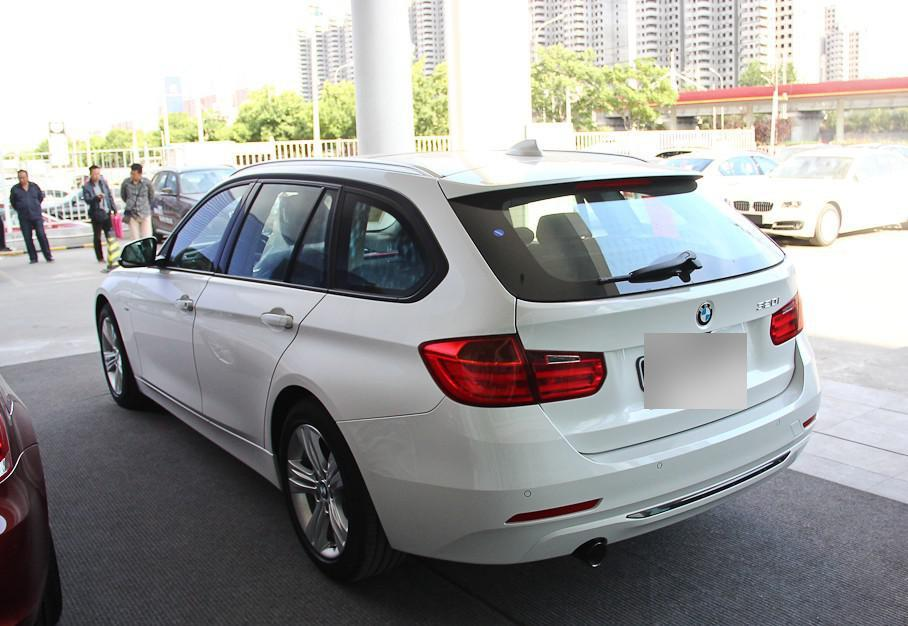Wagon: (95, 140, 821, 583)
